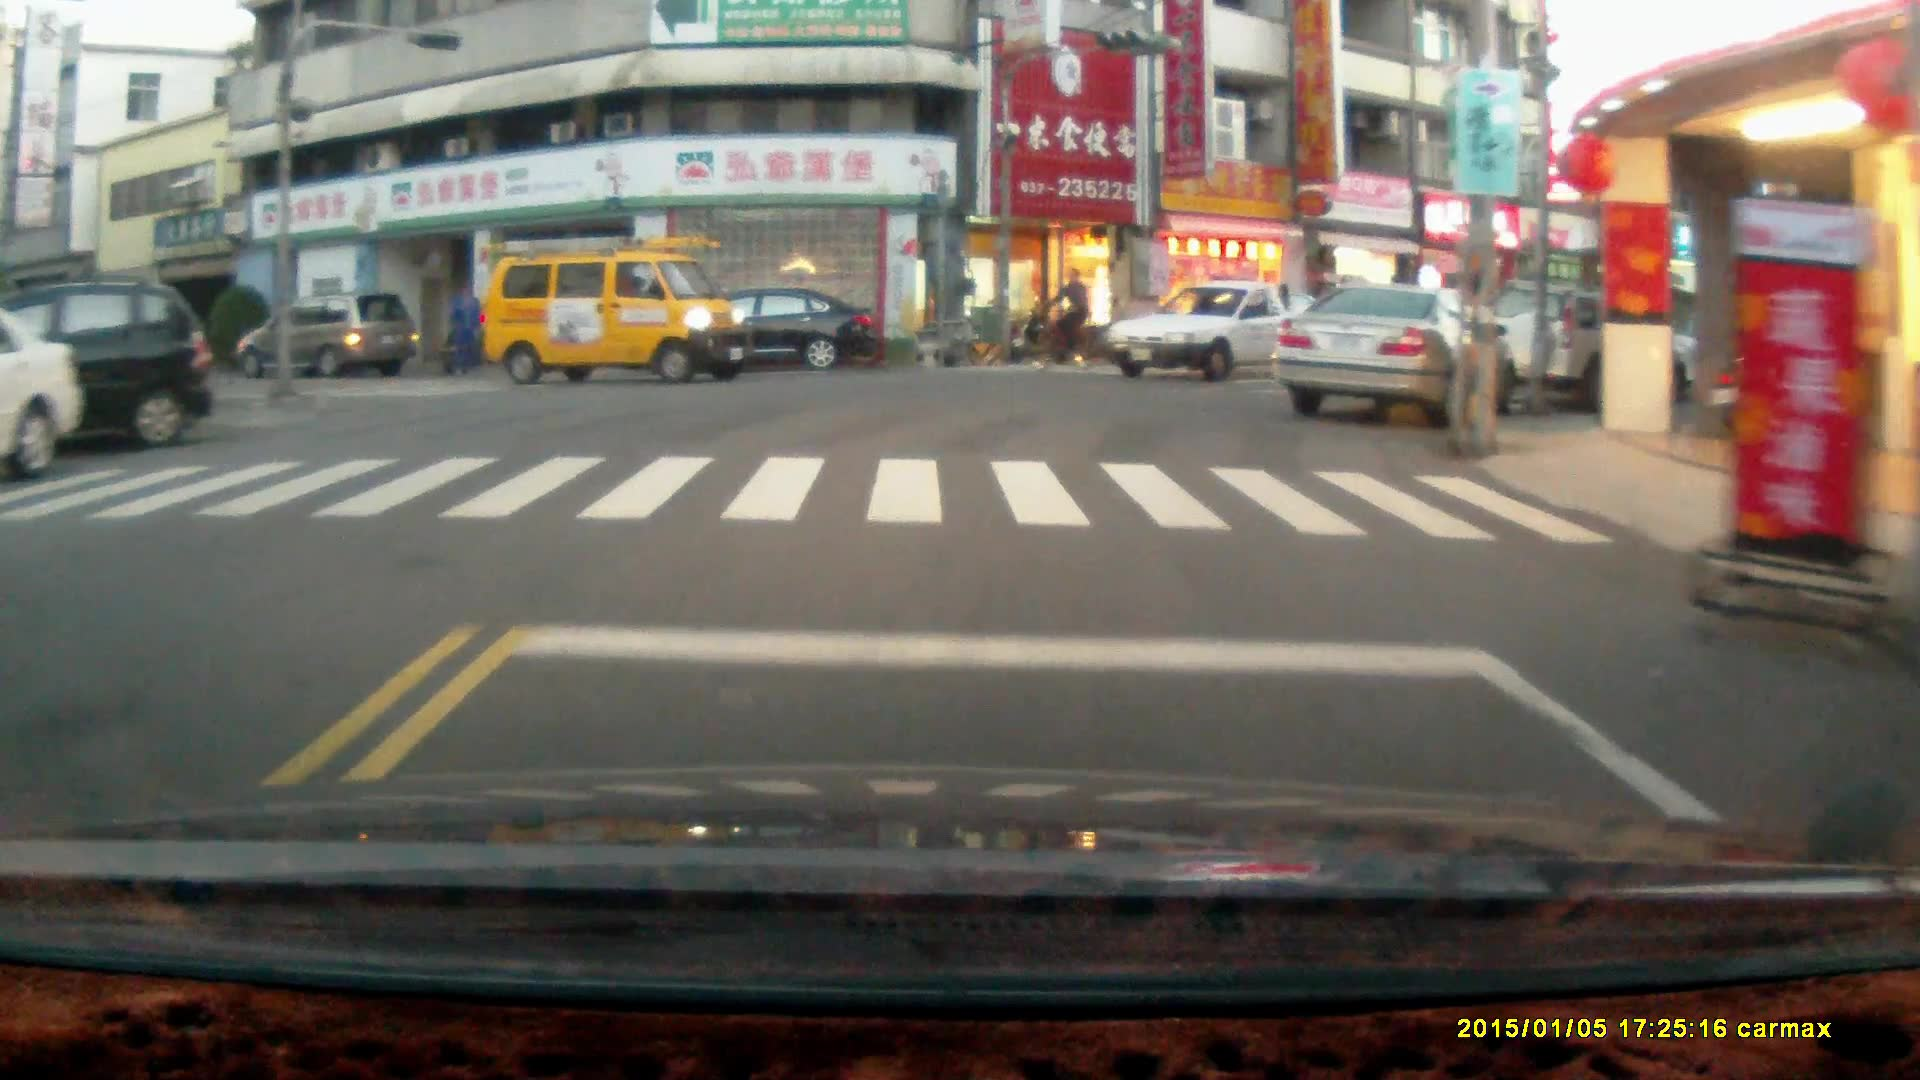pedestrian: (445, 281, 480, 372)
rider: (1023, 264, 1101, 372)
vehicle: (1, 276, 220, 460), (483, 236, 743, 389), (1271, 280, 1527, 429), (1471, 283, 1710, 416), (1106, 277, 1344, 385), (670, 290, 881, 376), (233, 293, 427, 381), (1, 322, 86, 481)
